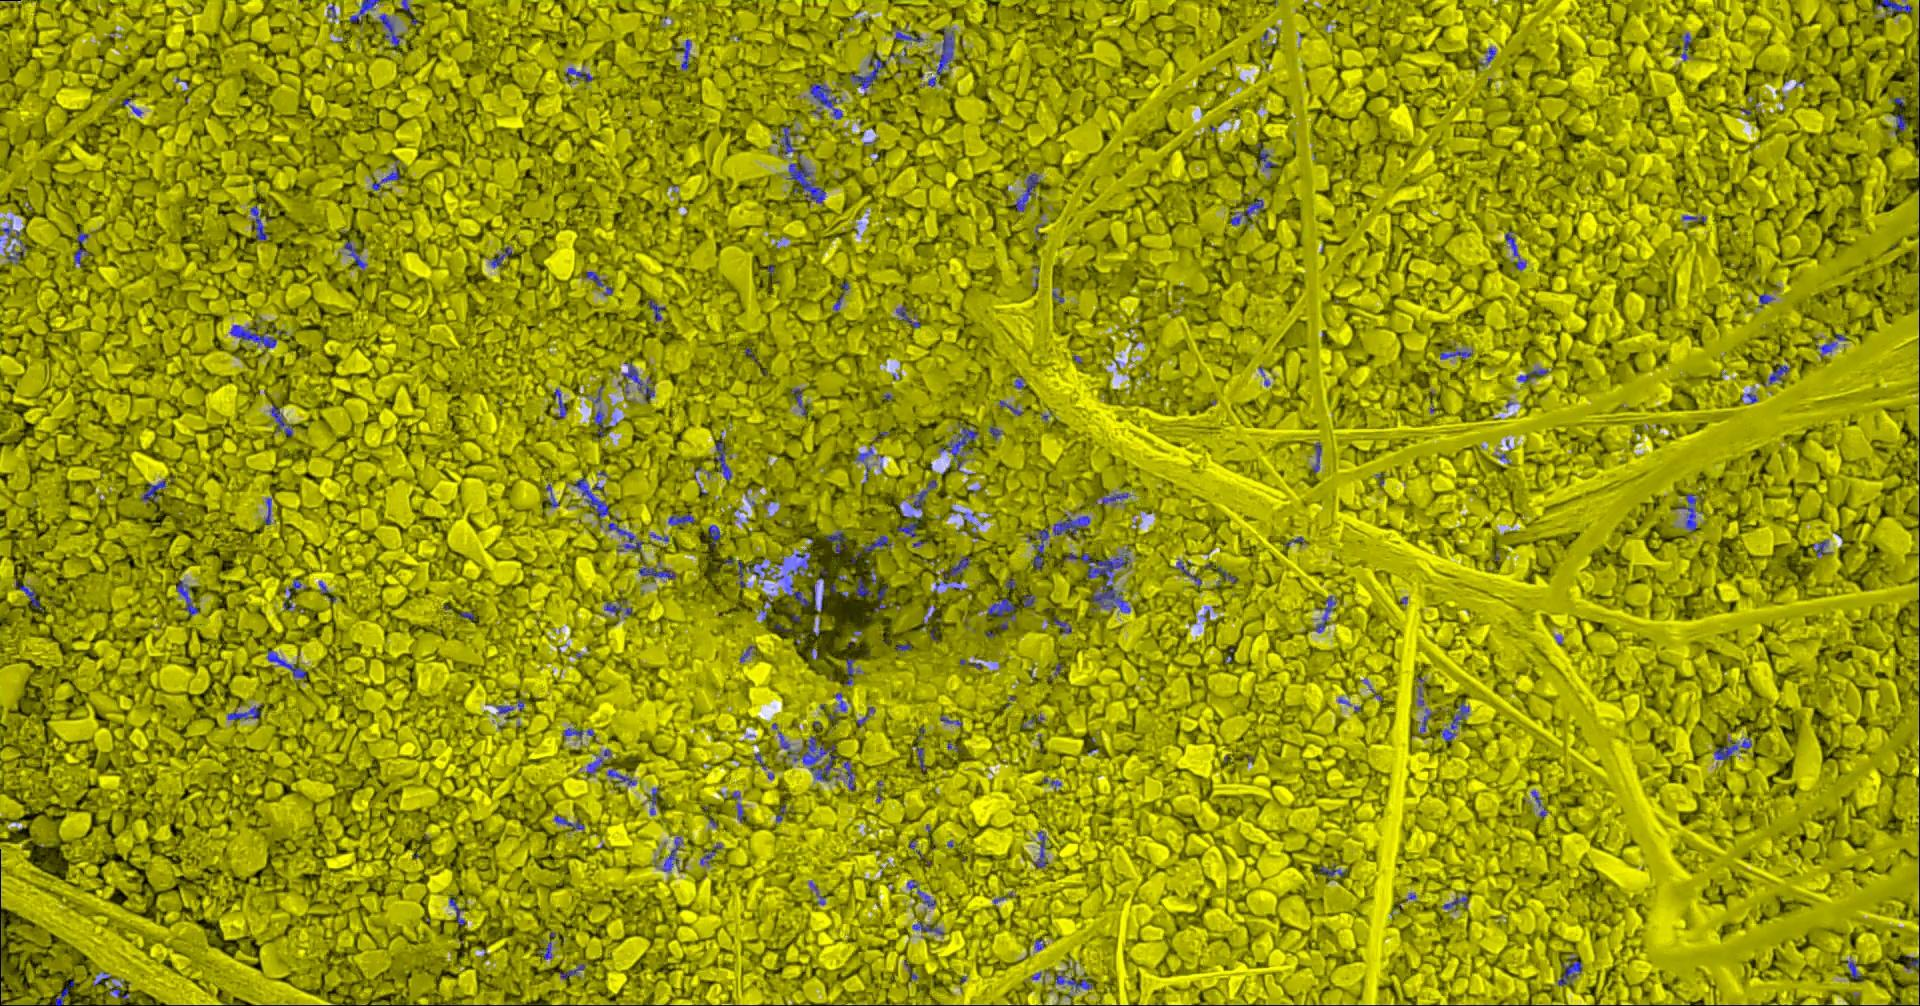ant: (1079, 549, 1129, 612), (777, 730, 837, 781), (775, 547, 810, 606), (787, 154, 825, 203), (571, 478, 610, 516), (723, 558, 770, 587), (940, 423, 977, 459), (607, 517, 643, 553), (621, 363, 654, 401), (850, 55, 886, 88), (809, 83, 842, 118), (265, 649, 306, 677), (935, 558, 969, 589), (1441, 700, 1468, 741), (229, 324, 276, 347), (1677, 493, 1702, 531), (1229, 198, 1263, 225), (1714, 735, 1751, 760), (1015, 173, 1037, 211), (378, 14, 403, 50), (1503, 231, 1525, 271), (1051, 513, 1090, 535), (175, 580, 198, 615), (712, 439, 731, 480), (1314, 594, 1335, 633), (1815, 333, 1846, 357), (936, 28, 952, 74), (15, 580, 42, 608), (349, 0, 378, 25), (662, 836, 682, 871), (270, 403, 292, 436), (1054, 970, 1091, 989), (1175, 560, 1201, 586), (371, 166, 399, 191), (343, 240, 367, 268), (1557, 956, 1581, 984), (1032, 528, 1049, 569), (987, 597, 1015, 619), (603, 594, 631, 615), (249, 205, 265, 239), (227, 702, 262, 719), (1891, 97, 1906, 133), (606, 767, 636, 785), (637, 567, 676, 580), (1032, 829, 1046, 868), (895, 305, 919, 326), (897, 514, 921, 536), (698, 842, 721, 864), (6, 239, 27, 263), (141, 480, 165, 500), (1874, 0, 1911, 13), (825, 531, 847, 553), (1255, 144, 1275, 166), (552, 814, 583, 829), (863, 535, 891, 551), (55, 981, 74, 1005), (450, 897, 465, 926), (780, 126, 796, 152), (791, 387, 806, 415), (874, 583, 889, 611), (731, 791, 745, 822), (910, 921, 943, 934), (559, 963, 584, 979), (490, 246, 510, 267), (1768, 365, 1789, 384), (552, 387, 566, 417), (565, 67, 592, 83), (1516, 370, 1547, 382), (844, 658, 860, 683), (401, 0, 417, 24), (648, 298, 664, 320), (894, 28, 922, 41), (563, 727, 593, 738), (1443, 895, 1467, 909), (910, 490, 927, 511), (1102, 492, 1128, 504), (593, 409, 604, 437), (667, 513, 695, 525), (917, 888, 935, 906), (1812, 539, 1831, 555), (855, 577, 871, 596), (1310, 442, 1321, 473), (843, 760, 853, 790), (707, 525, 720, 549), (649, 788, 660, 814), (1318, 864, 1345, 875), (681, 39, 691, 69), (585, 757, 603, 774), (1051, 617, 1070, 633), (1848, 960, 1862, 981), (1681, 33, 1691, 60), (585, 271, 603, 286), (1479, 47, 1495, 64), (1439, 351, 1472, 358), (538, 940, 551, 959), (916, 747, 924, 774), (263, 497, 270, 525), (1903, 955, 1919, 969), (1683, 215, 1705, 222), (1023, 594, 1034, 607)
